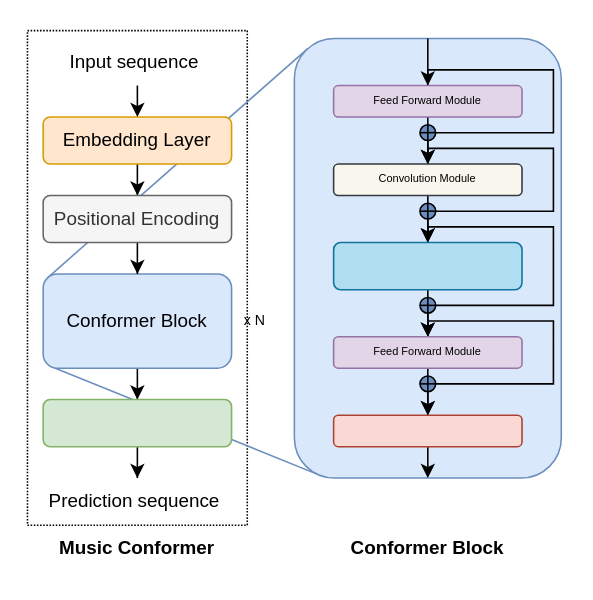
Image size: 593x600. Some labels were removed from this diagram. The box of each missing label's shape, as (x1, y1, x2, y2) in pixels:
LN: (332, 414, 522, 447)
Multi-Head Self Attention Module: (332, 241, 522, 290)
Projection Layer: (42, 398, 232, 447)
